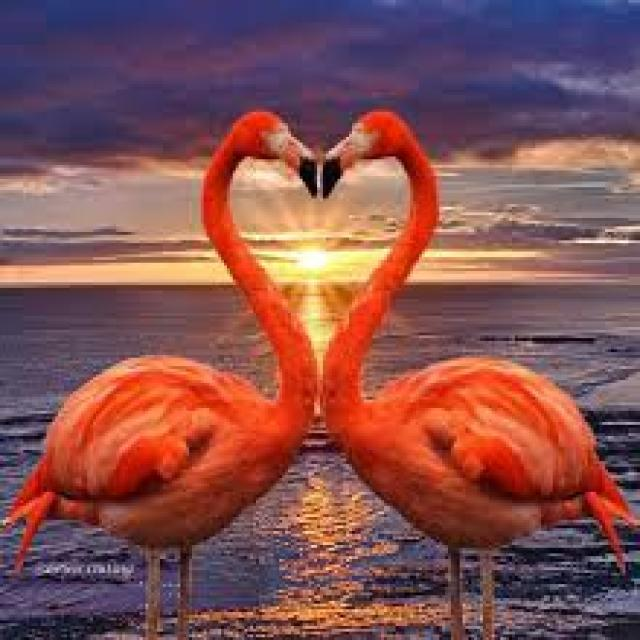Flamingo: (5, 107, 323, 637), (323, 106, 637, 640)
